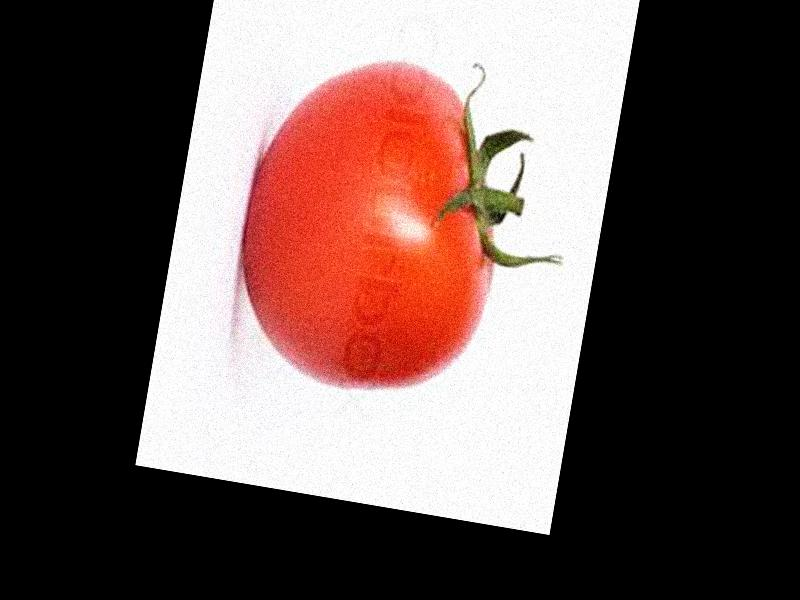Tomato: (225, 45, 525, 408)
